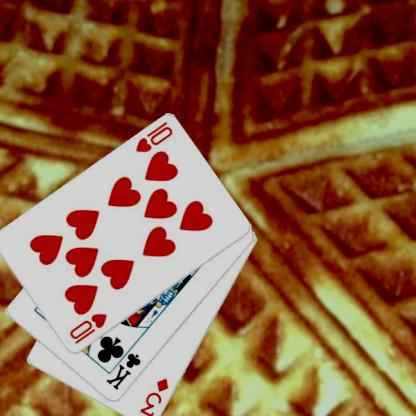10H: (132, 119, 175, 155), (67, 311, 108, 346)
3D: (137, 375, 170, 416)
KC: (104, 342, 142, 392)
